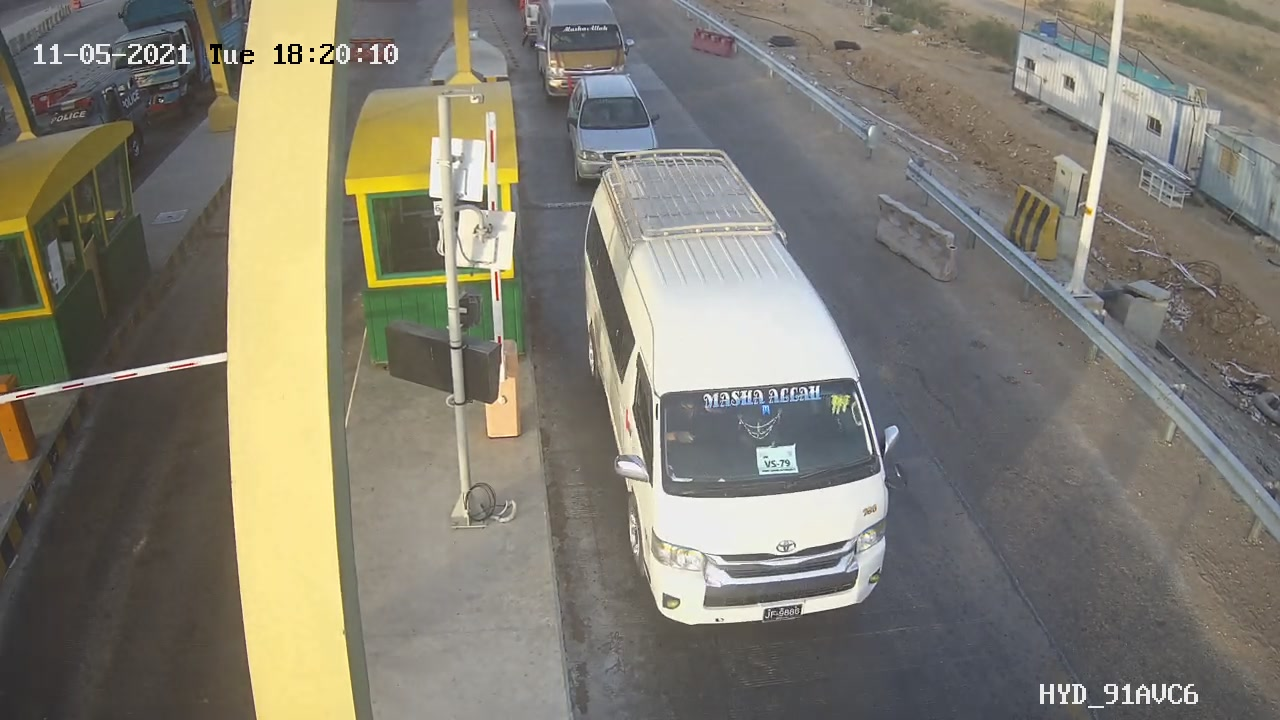F2: (579, 150, 908, 629)
